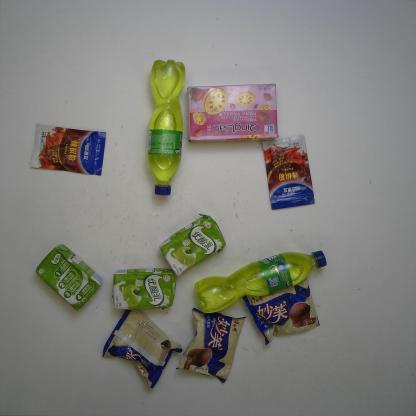Dessert: (100, 308, 184, 390), (175, 306, 247, 384), (187, 83, 279, 144), (242, 276, 321, 346)
Drink: (192, 250, 327, 314), (146, 59, 186, 197)
Milk: (35, 244, 104, 310), (159, 214, 226, 276), (111, 267, 176, 311)
Seasoner: (30, 123, 108, 176), (262, 135, 315, 211)
